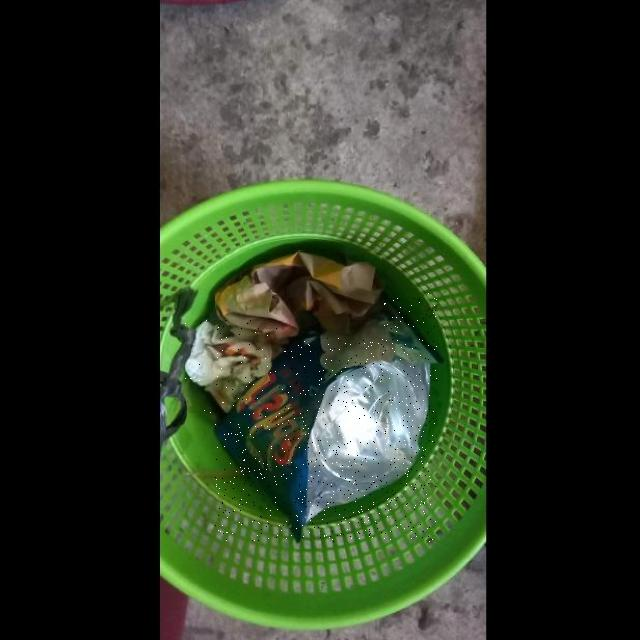paper: (216, 251, 382, 337), (185, 320, 284, 412)
wrapper: (215, 293, 437, 542)
